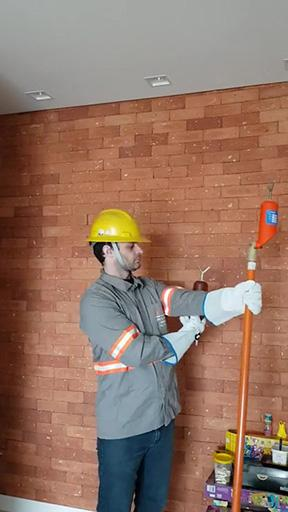Detector_Tensao_Contato: (254, 181, 280, 249), (191, 263, 211, 327)
Vara_Manobra: (230, 247, 259, 512)
